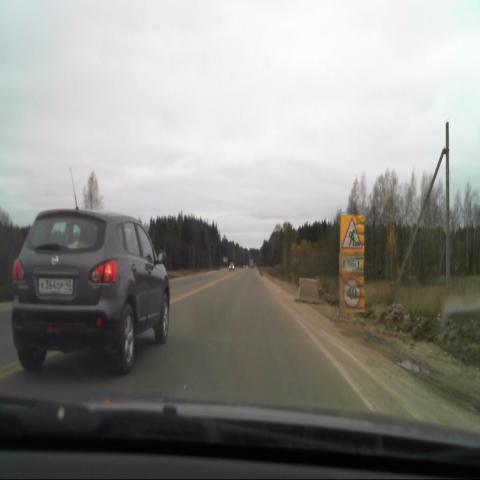1_25: (341, 217, 364, 250)
